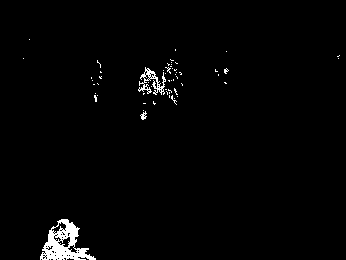person: (138, 67, 159, 120), (164, 59, 183, 107)
